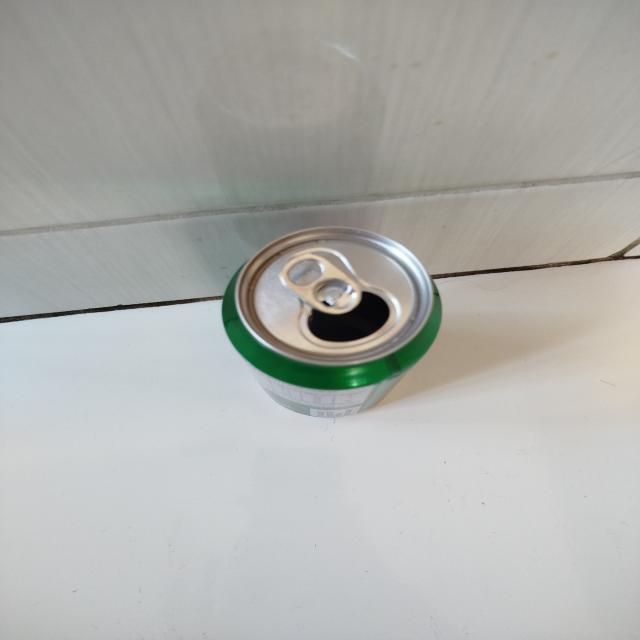Guarana: (217, 224, 446, 418)
